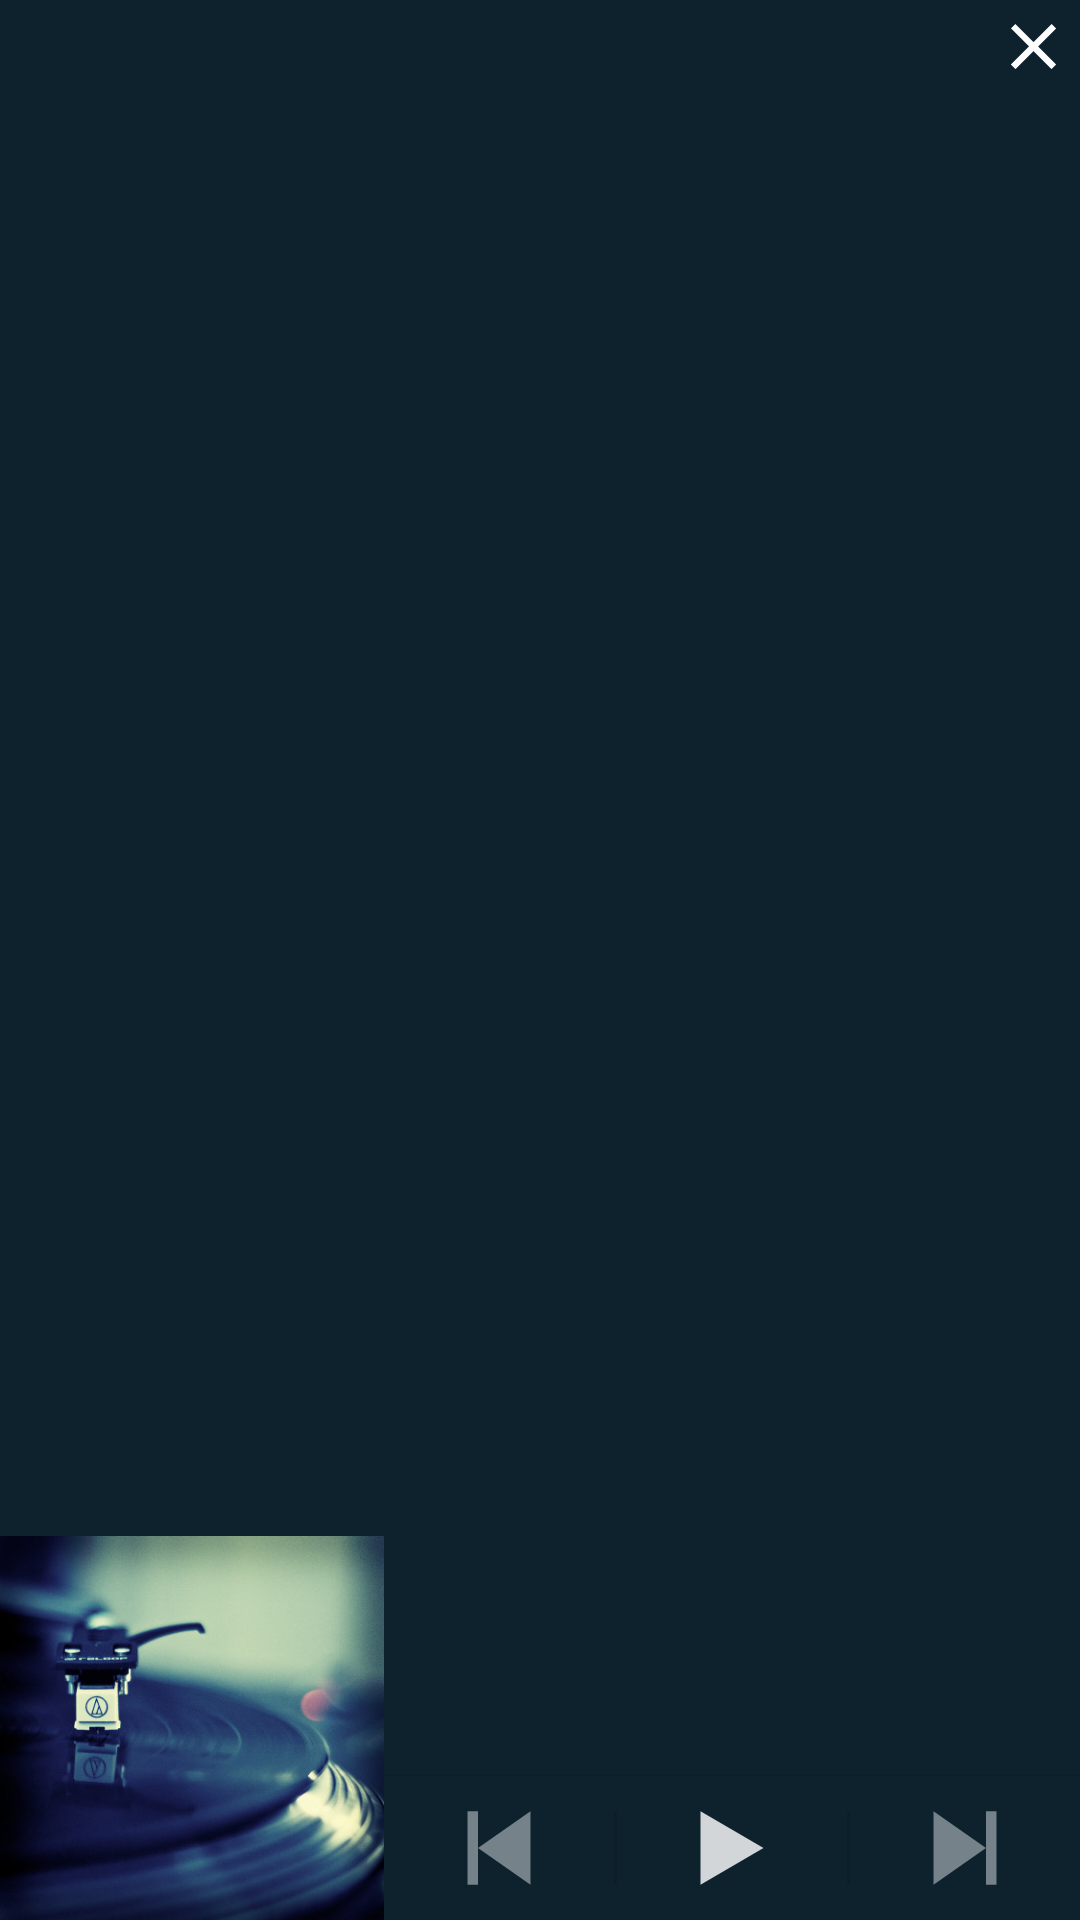

Named icons in this screenshot (1080px x 1920px) and their centers, (x=x, y=y):
close: (x=1033, y=46)
play: (x=731, y=1848)
